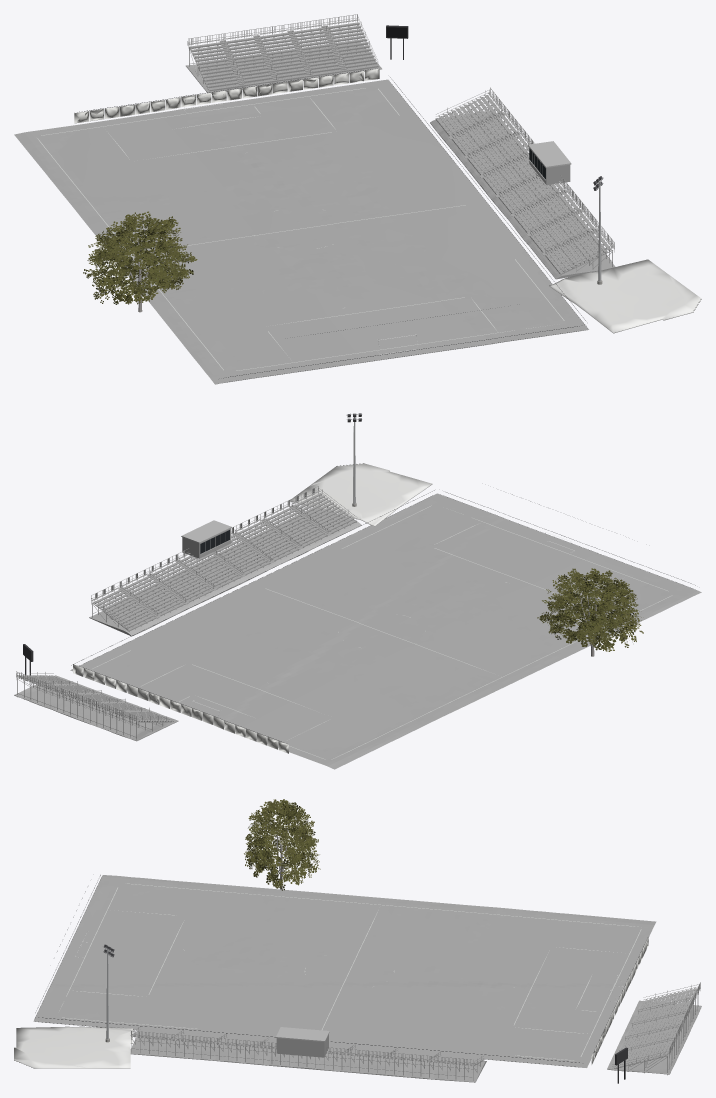
3 views of the same model, one above another, from view 1: azimuth 30°, elevation 25°; view 2: azimuth 150°, elevation 25°; view 3: azimuth 270°, elevation 25° (orthographic). The views are drawn at different scales.
Parts seen in each view (by area): view 1: fs_turf, fr_stand_entry_steps, fr_stand_risers, fr_stand_seating, NT_RedMaple_0155, fr_stand_under_pad, North_NEPlaza_gi, fu_windscreen, fr_stand_rails, fs_lines, fse_press_box, ft_fence_posts_rails; view 2: fs_turf, fr_stand_under_pad, fr_stand_risers, fr_stand_entry_steps, NT_RedMaple_0155, fr_stand_seating, North_NEPlaza_gi, fr_stand_rails, fu_windscreen, fse_press_box, fs_lines, ft_fence_posts_rails; view 3: fs_turf, fr_stand_under_pad, NT_RedMaple_0155, North_NEPlaza_gi, fr_stand_seating, fr_stand_entry_steps, fr_stand_risers, fr_stand_rails, fse_press_box, fs_lines, fu_windscreen, ft_fence_posts_rails.
Boxes of the visible parts, x1,y1,x2,y2 form: fs_turf: (14,79,588,384); fr_stand_entry_steps: (189,22,611,273); fr_stand_risers: (189,23,612,275); fr_stand_seating: (188,19,613,270); NT_RedMaple_0155: (83,211,197,312); fr_stand_under_pad: (186,42,615,279); North_NEPlaza_gi: (549,259,701,333); fu_windscreen: (74,68,379,123); fr_stand_rails: (187,14,614,272); fs_lines: (37,88,564,370); fse_press_box: (528,141,571,185); ft_fence_posts_rails: (79,69,586,382); fs_turf: (70,493,701,769); fr_stand_under_pad: (14,508,361,741); fr_stand_risers: (17,494,356,739); fr_stand_entry_steps: (18,493,356,721); NT_RedMaple_0155: (537,568,643,656); fr_stand_seating: (17,491,354,719); North_NEPlaza_gi: (290,463,432,526); fr_stand_rails: (16,486,356,724); fu_windscreen: (73,664,288,753); fse_press_box: (181,520,231,558); fs_lines: (92,505,672,759); ft_fence_posts_rails: (71,490,695,741); fs_turf: (33,875,656,1067); fr_stand_under_pad: (130,1000,701,1082); NT_RedMaple_0155: (244,799,320,890); North_NEPlaza_gi: (14,1026,132,1068); fr_stand_seating: (132,987,697,1065); fr_stand_entry_steps: (131,988,697,1068); fr_stand_risers: (131,990,698,1080); fr_stand_rails: (130,982,700,1068); fse_press_box: (276,1027,329,1057); fs_lines: (59,883,641,1060); fu_windscreen: (591,936,648,1064); ft_fence_posts_rails: (35,875,645,1067).
Bounding box in the file's own units: 109 × 23.38 × 142.
22 materials, 1 textured.
